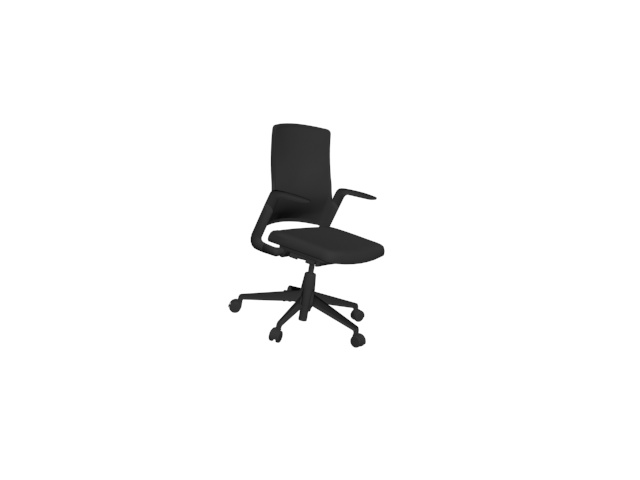desk_chair: (225, 121, 392, 352)
